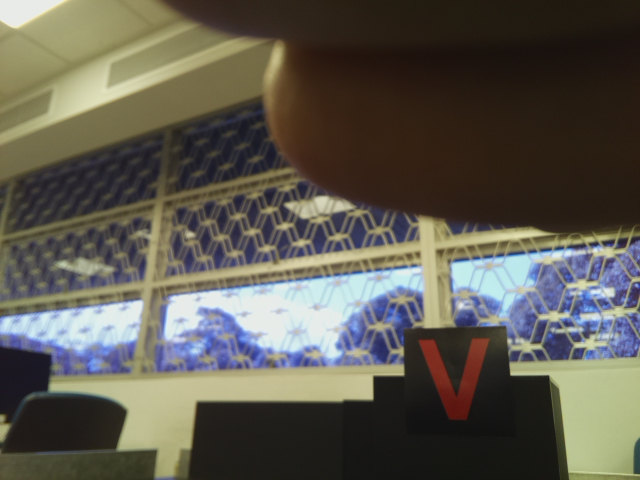v: (412, 336, 491, 425)
